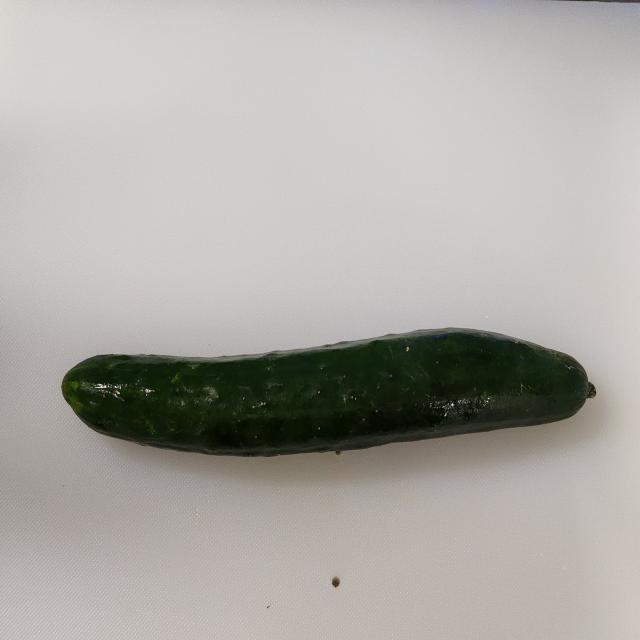cucumber: (61, 325, 596, 457)
